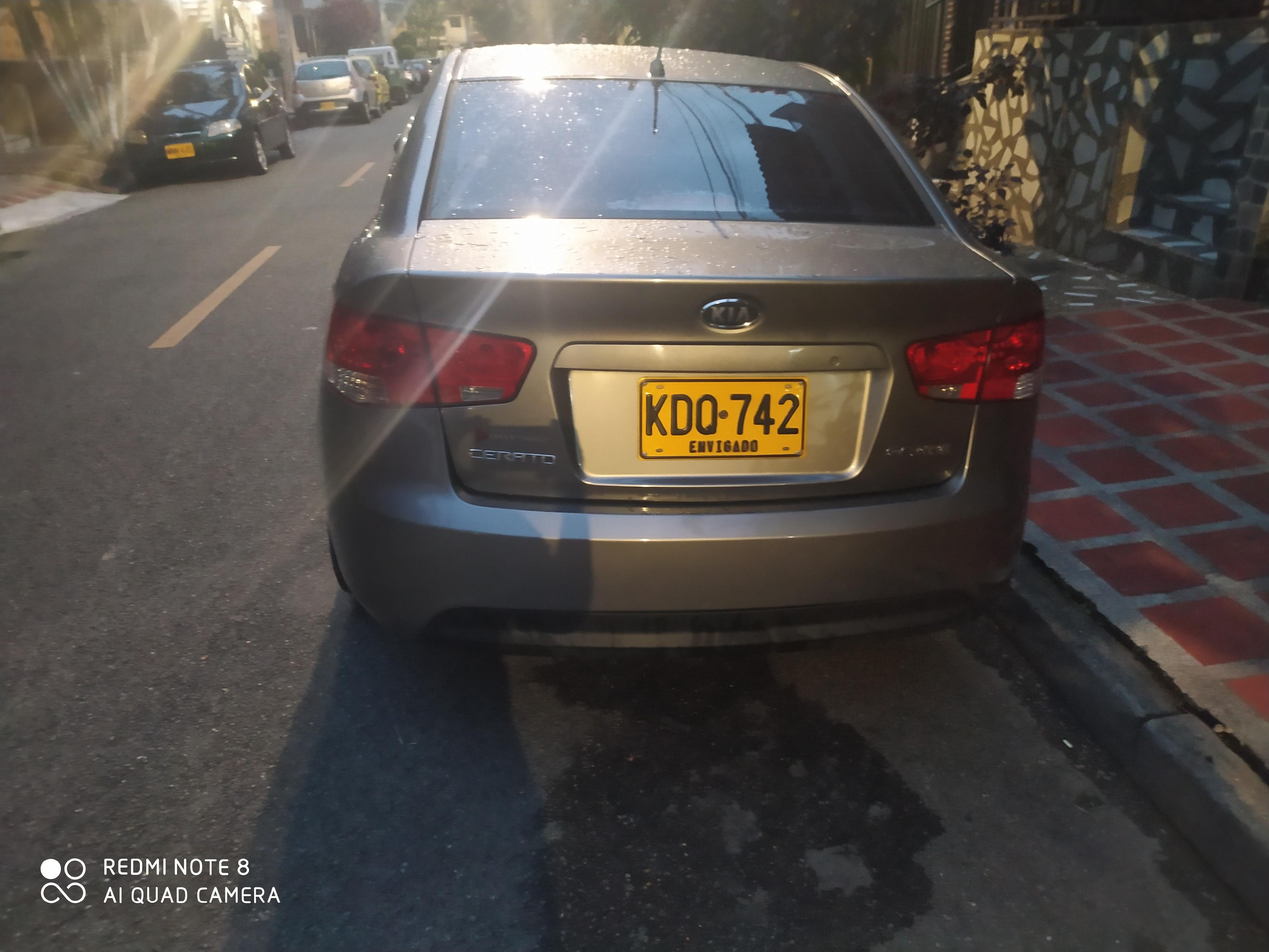placa: (626, 369, 814, 464)
